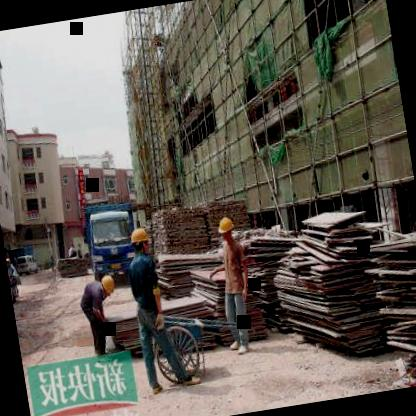helmet: (128, 222, 154, 253), (96, 270, 120, 299), (214, 215, 237, 244)
